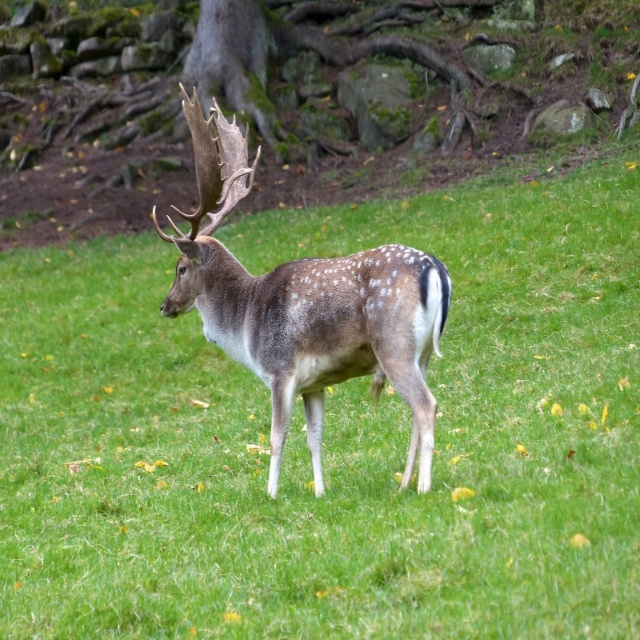Deer: (150, 81, 452, 494)
